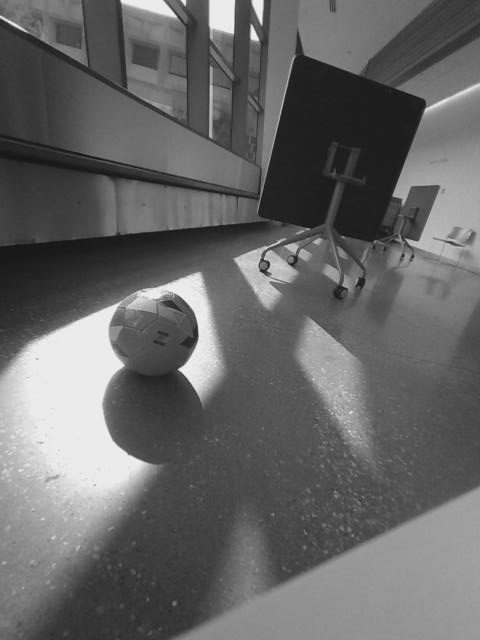ball: (106, 285, 201, 378)
